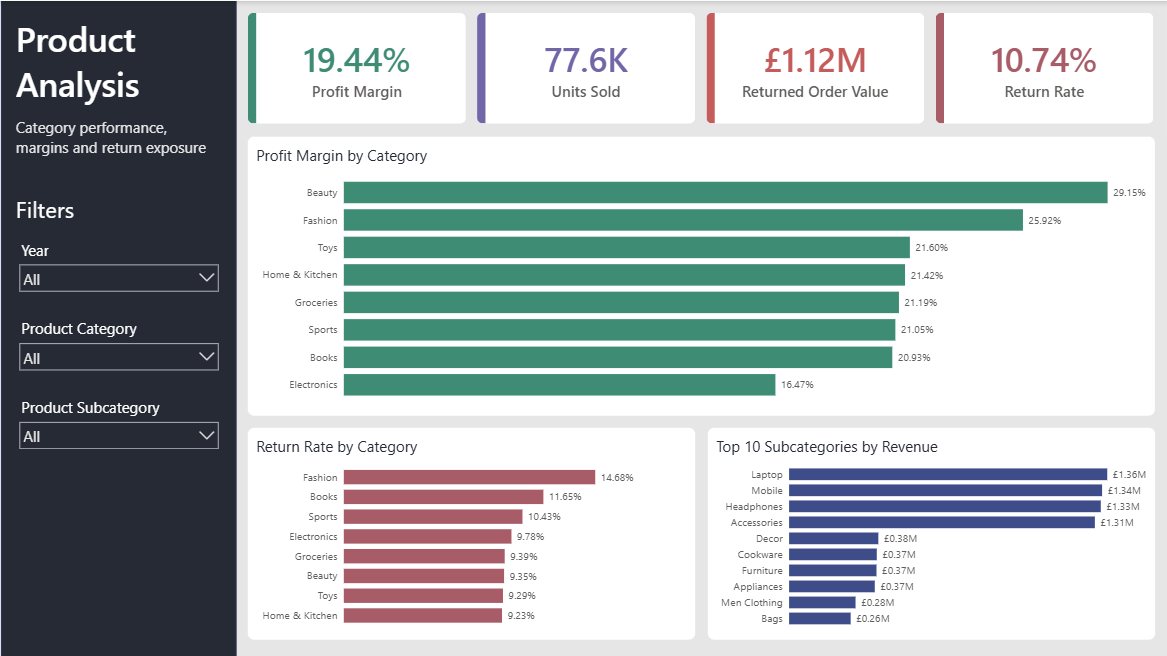

This screenshot's page, from the dashboard's own definition file:
{"tool":"powerbi","page":{"name":"Product Analysis","canvas":[1664,936],"ordinal":1},"visuals":[{"type":"cardVisual","fields":{"Data":["Measures (3).Profit Margin","Measures (3).Units Sold","Measures (3).Returned Order Value","Measures (3).Return Rate"]},"box":[336,0,1328,192],"z":0},{"type":"shape","box":[0,-8,336,944],"z":1000},{"type":"textbox","box":[16,16,304,144],"z":2000},{"type":"clusteredBarChart","title":"Profit Margin by Category","fields":{"Category":["fact_orders.product_category"],"Y":["Measures (3).Profit Margin"]},"box":[352,192,1296,400],"z":3000},{"type":"textbox","box":[16,160,304,112],"z":4000},{"type":"clusteredBarChart","title":"Return Rate by Category","fields":{"Category":["fact_orders.product_category"],"Y":["Measures (3).Return Rate"]},"box":[352,608,640,304],"z":5000},{"type":"clusteredBarChart","title":"Top 10 Subcategories by Revenue","fields":{"Y":["Measures (3).Realised Revenue"],"Category":["fact_orders.product_subcategory"]},"box":[1008,608,640,304],"z":6000},{"type":"slicer","title":"Filters","fields":{"Values":["dim_date.year"]},"box":[16,336,304,96],"z":7000},{"type":"slicer","title":"Filters","fields":{"Values":["fact_orders.product_subcategory"]},"box":[16,560,304,96],"z":8000},{"type":"slicer","title":"Filters","fields":{"Values":["fact_orders.product_category"]},"box":[16,448,304,96],"z":9000},{"type":"textbox","box":[16,272,128,80],"z":10000}]}

Visuals, with their boxes in screenshot pixels (x1, y1, x2, y2), scaled from the page's 1664x936 canvas onto the 1167x656 screenshot:
cardVisual - Measures (3).Profit Margin x Measures (3).Units Sold: 236,0,1166,135
shape: 0,0,236,655
textbox: 11,11,224,112
"Profit Margin by Category" clusteredBarChart: 247,135,1156,415
textbox: 11,112,224,191
"Return Rate by Category" clusteredBarChart: 247,426,696,639
"Top 10 Subcategories by Revenue" clusteredBarChart: 707,426,1156,639
"Filters" slicer: 11,235,224,303
"Filters" slicer: 11,392,224,460
"Filters" slicer: 11,314,224,381
textbox: 11,191,101,247
